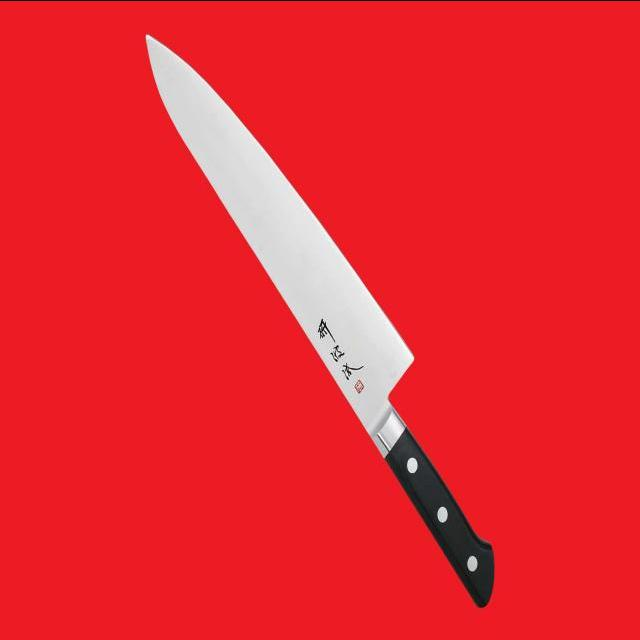knife: (140, 27, 494, 612)
